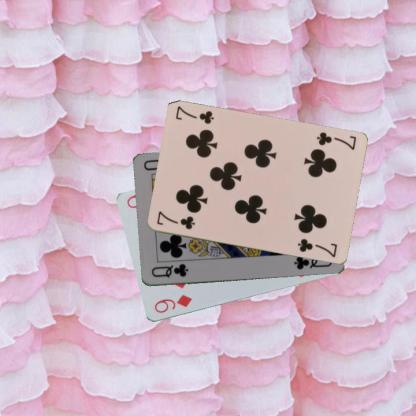7c: (313, 129, 357, 152), (154, 209, 196, 231)
9d: (152, 292, 194, 315)
Qc: (148, 261, 190, 279)
